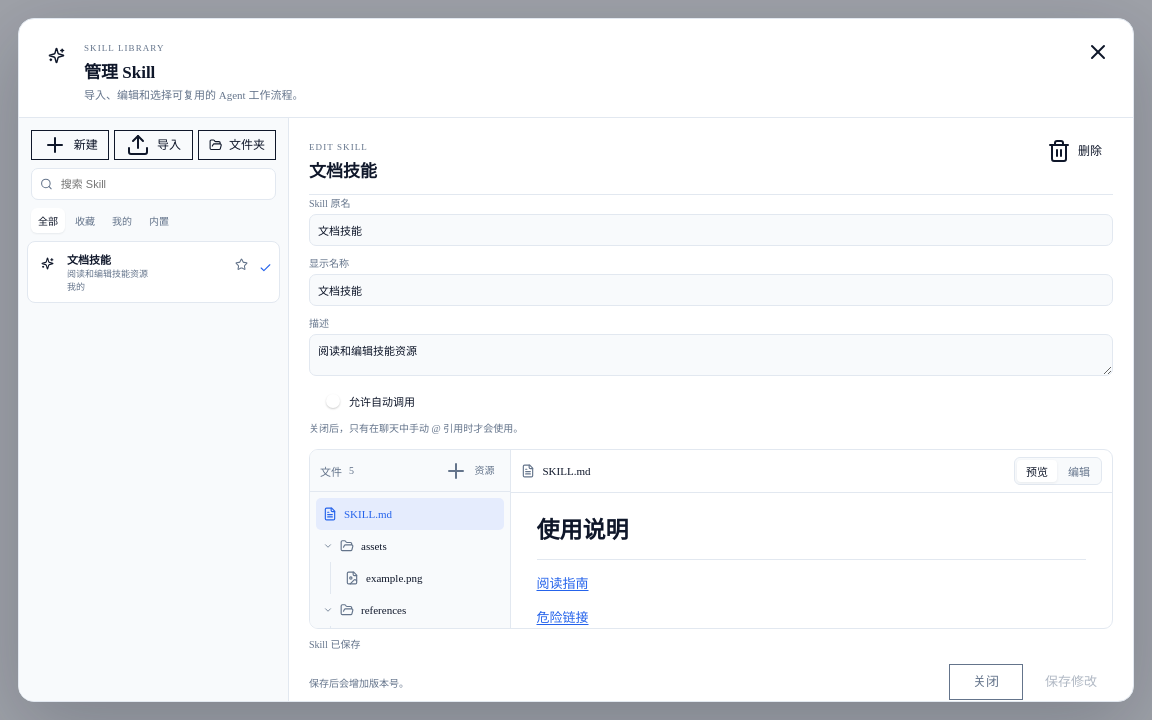
Scenario: SkillManager › previews Markdown safely and opens relative resource links with tables, code and packaged images
Expected: the heading "使用说明" is shown, [536,515,1086,560]
Click the link "阅读指南": [562, 584] box [536,576,588,591]
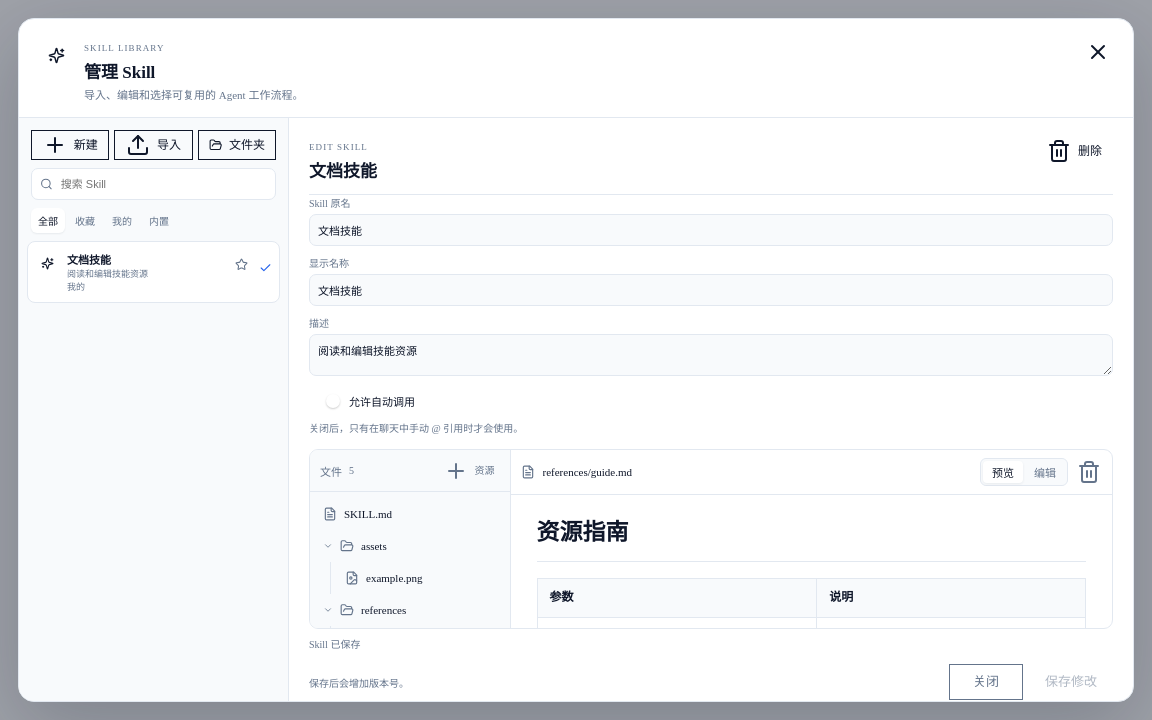
Expected: the button "保存修改" is disabled, [1029,664,1113,700]
Now the heading "资源指南" is shown, box [536,517,1086,562]
